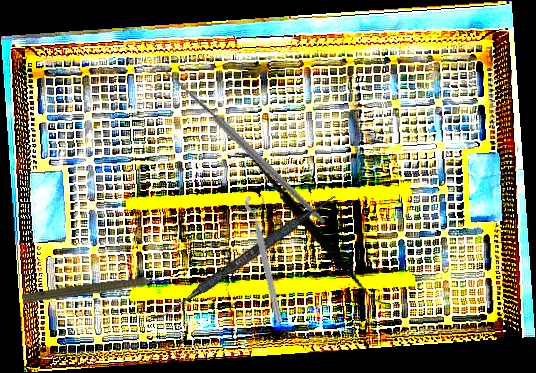Fixation Ring: (243, 192, 293, 325)
Handpiece: (21, 270, 172, 310)
Hook Surgical: (148, 32, 327, 260)
Spatula Surgical: (205, 150, 415, 307), (152, 188, 337, 329)
